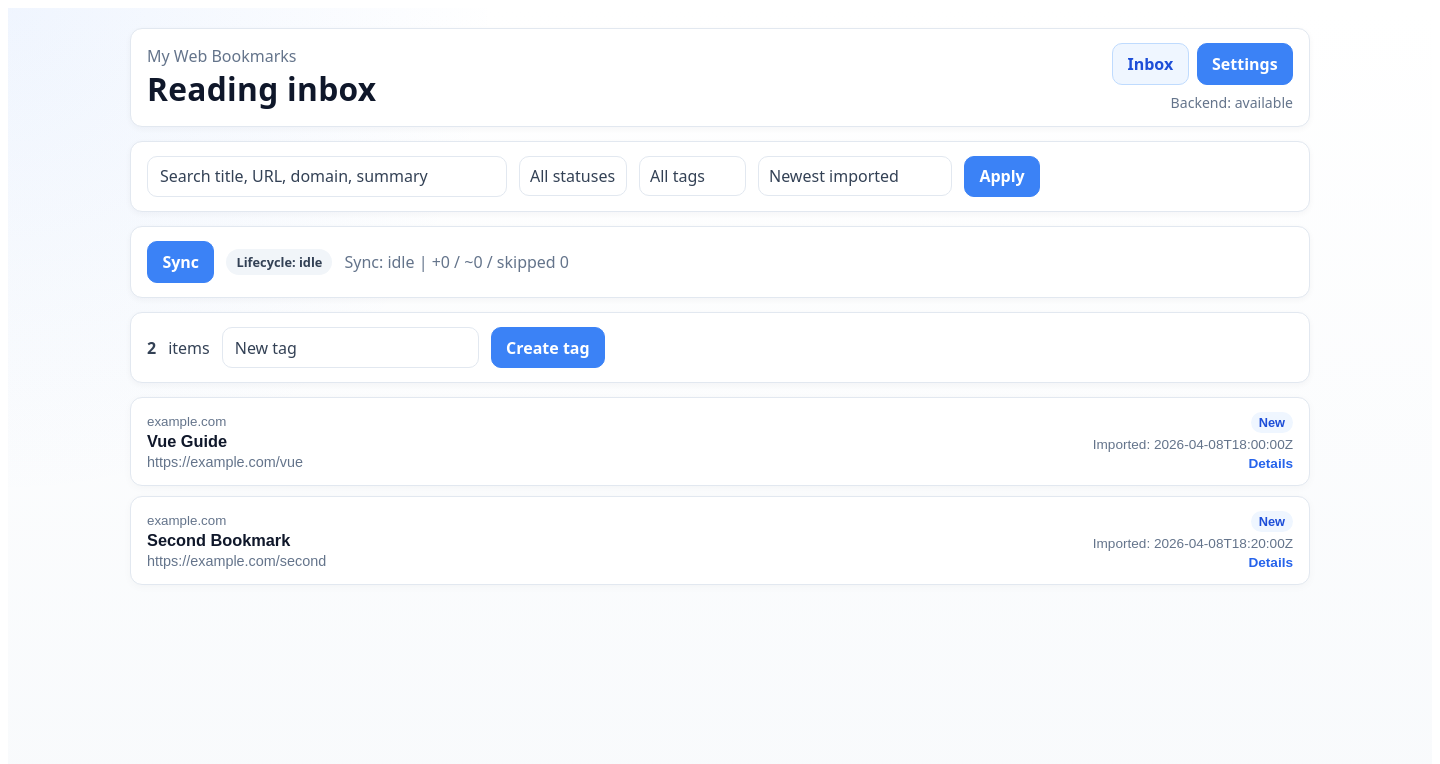
Test case: App › shows operation lifecycle and success confirmations for save summary and sync
What coordinates should you click on to do the following:
click the button with aria-label "Toggle details for Vue Guide"
I would click on:
 (187, 421)
Its box is [131, 398, 1309, 485].
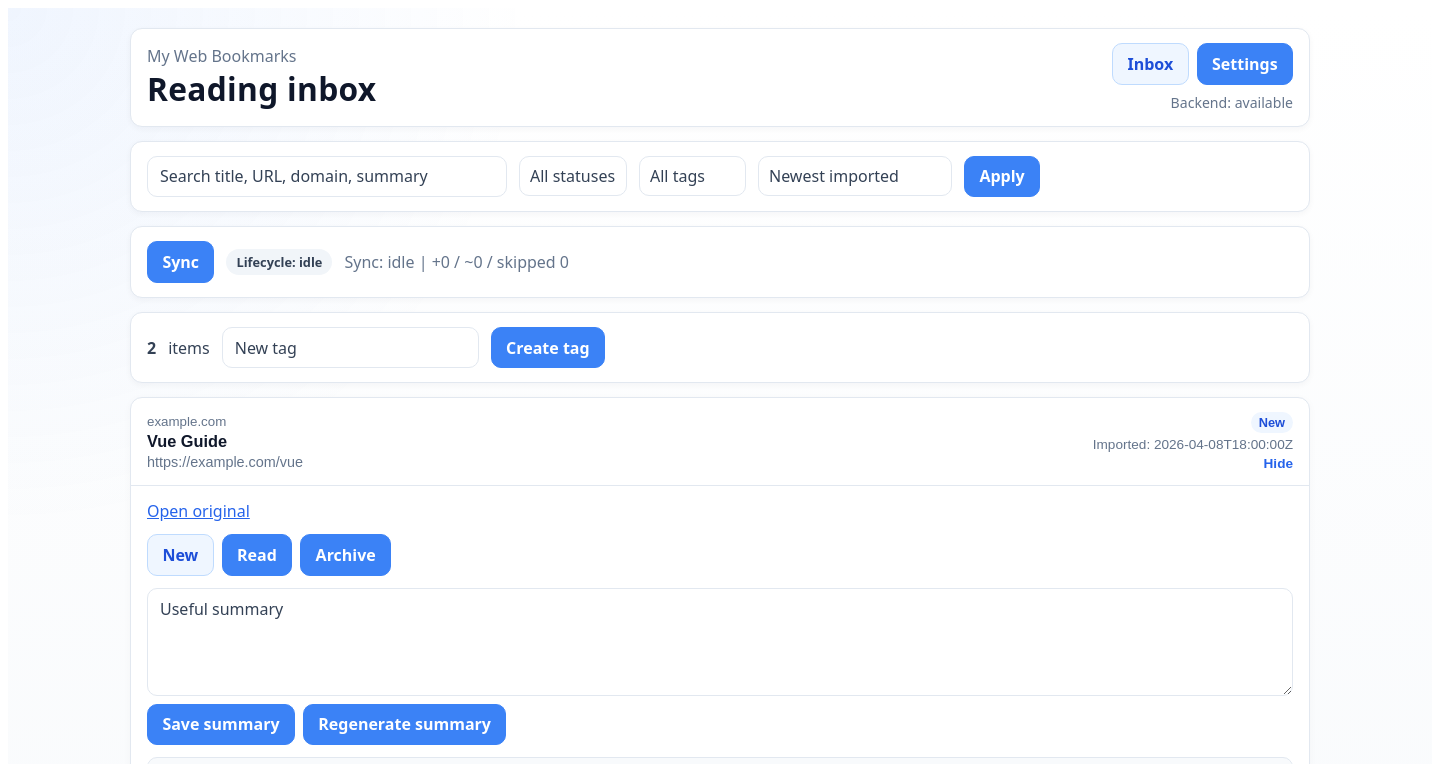
What coordinates should you click on to do the following:
click the button with aria-label "Save summary for Vue Guide"
I would click on:
 (221, 724)
Its box is [147, 704, 295, 745].
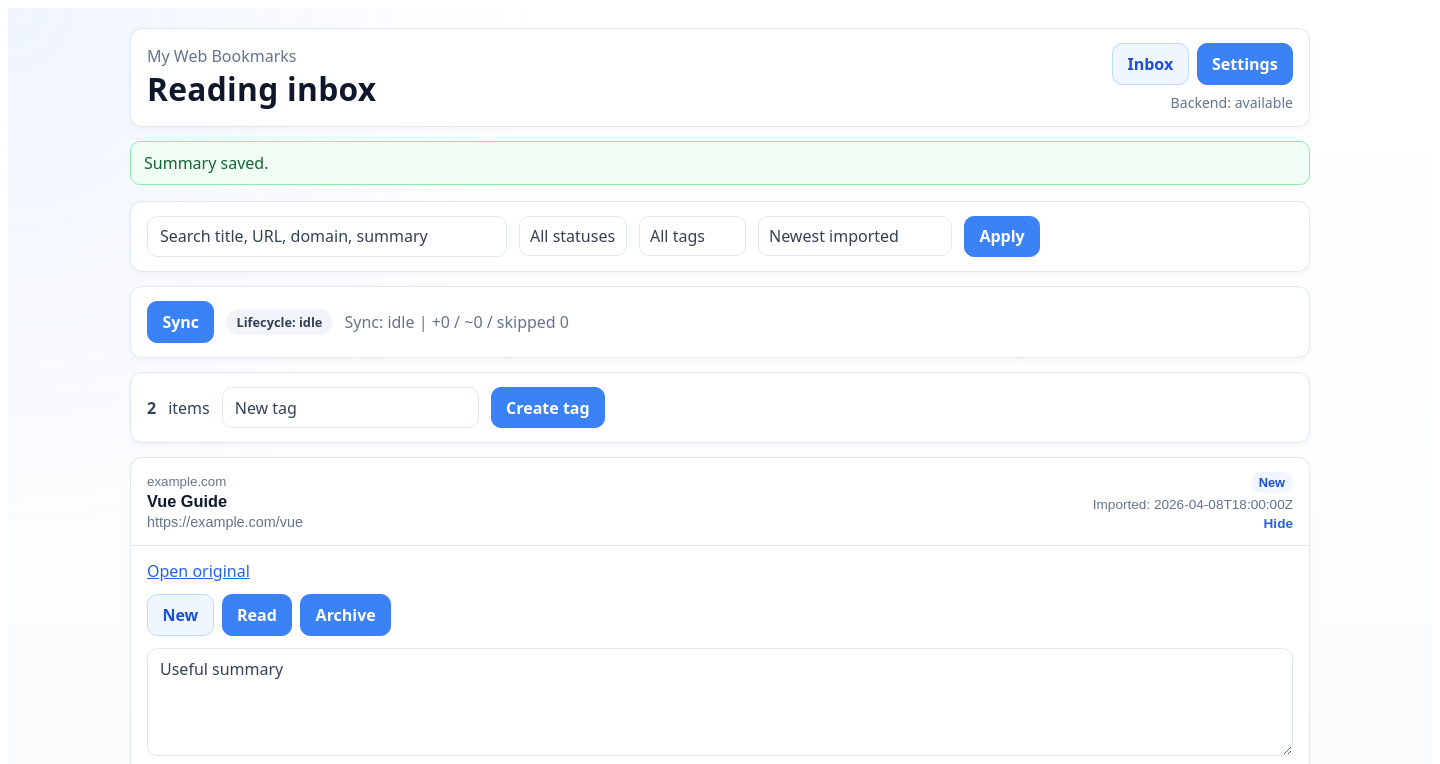
expect the text "Summary saved." is shown: met, box [130, 141, 1310, 185]
What coordinates should you click on to do the following:
click the button with aria-label "Sync bookmarks"
I would click on:
 (181, 322)
Its box is [147, 301, 214, 343].
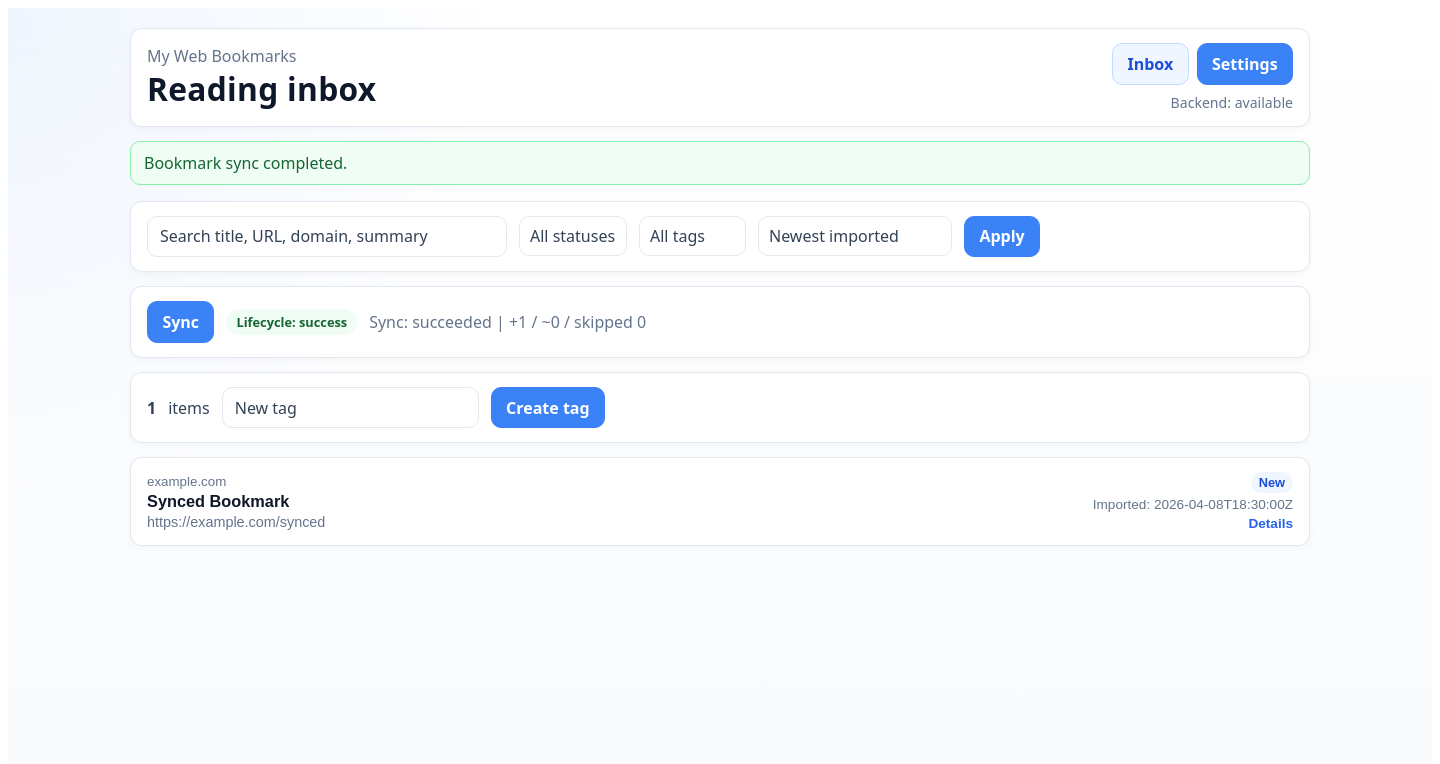
expect the text "Lifecycle: success" is shown: met, box [226, 309, 357, 335]
expect the text "Bookmark sync completed." is shown: met, box [130, 141, 1310, 185]
